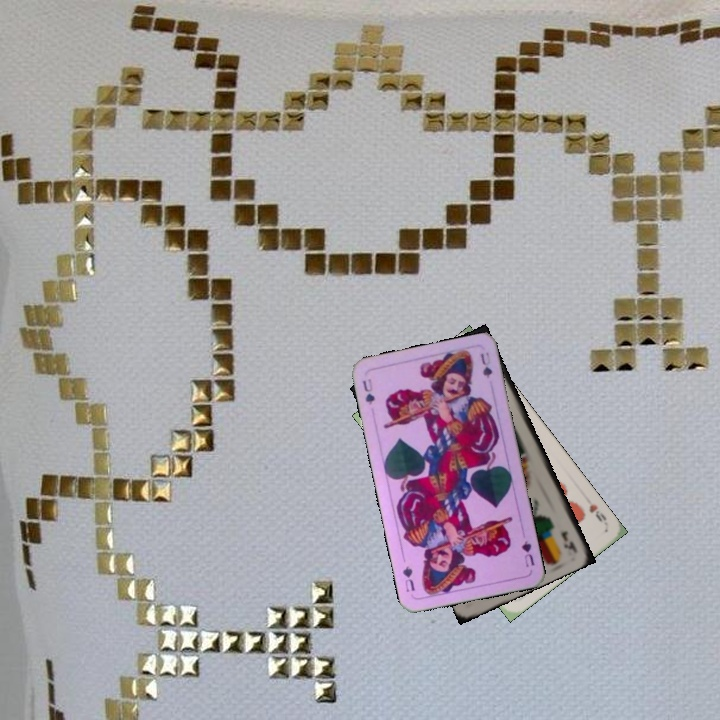EK: (557, 527, 579, 553)
GU: (517, 536, 537, 570), (358, 375, 377, 407)
H9: (585, 500, 609, 525)
